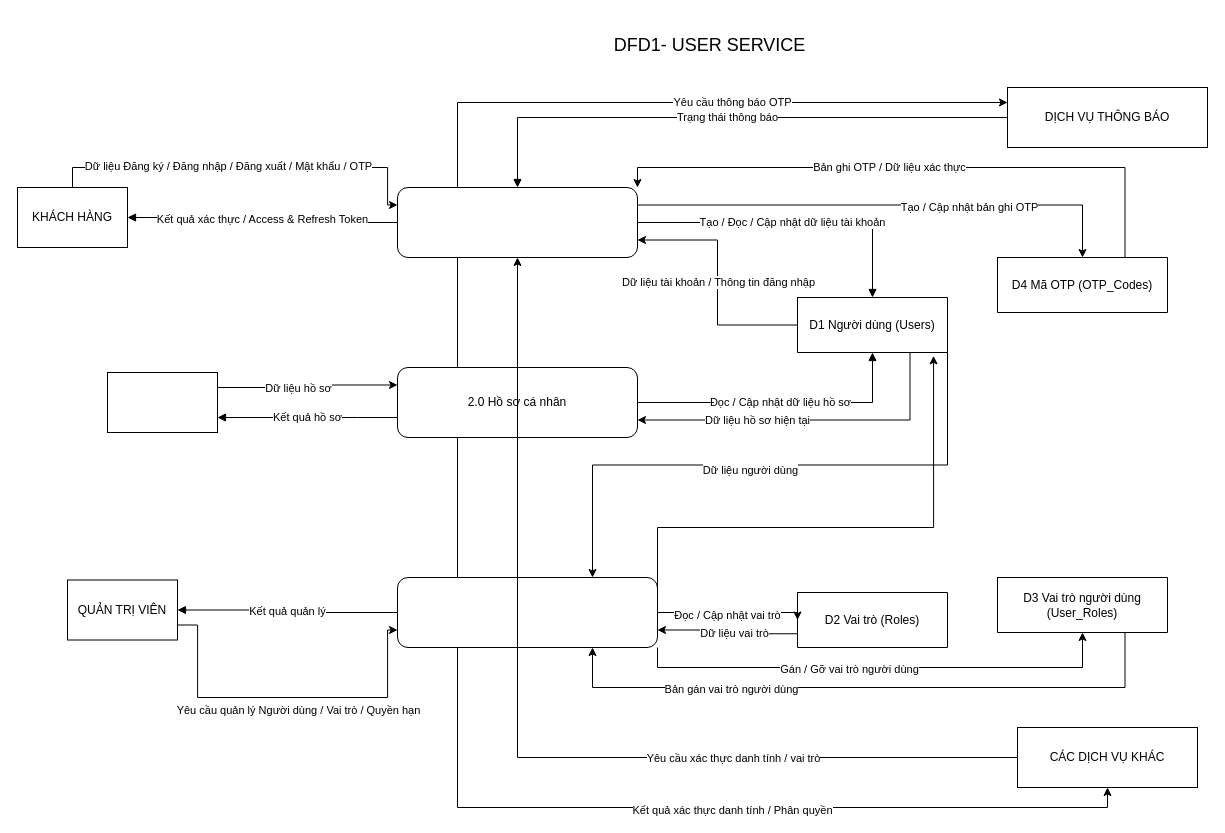
This 1225x833 diagram has some shape labels left out. Each missing label, with the centre of its shape:
"1.0 Xác thực & Tài khoản" goes at (x=517, y=222).
"3.0 Phân quyền & Quản lý người dùng" goes at (x=527, y=612).
"ĐỐI TÁC" goes at (x=162, y=402).
